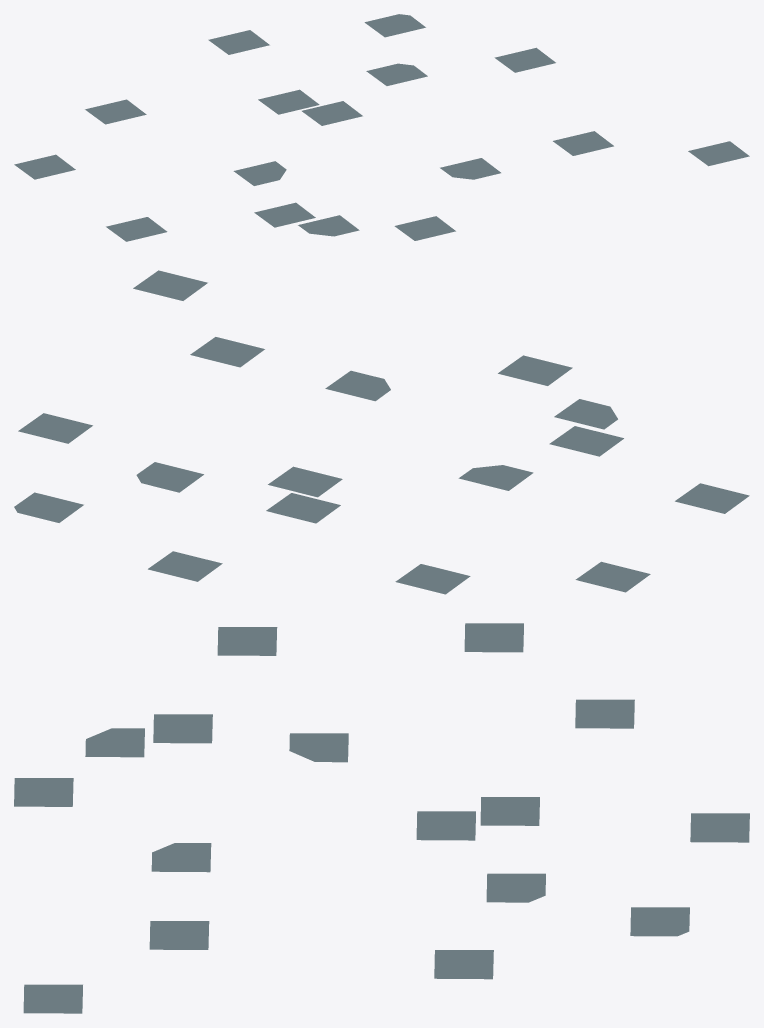
Rendered from Tiles 03.FBX.
3 views of the same model, one above another, from view 1: azimuth 30°, elevation 25°; view 2: azimuth 150°, elevation 25°; view 3: azimuth 270°, elevation 25° (orthographic). The views are drawn at different scales.
Parts seen in each view (by area): view 1: Tiles 03; view 2: Tiles 03; view 3: Tiles 03.
Part boxes in pixels (left/top/right/bottom): Tiles 03: left=14, top=14, right=749, bottom=241; Tiles 03: left=14, top=270, right=749, bottom=594; Tiles 03: left=14, top=623, right=749, bottom=1013.
Size of the model in its own units: 876 by 5.36e-07 by 698.
